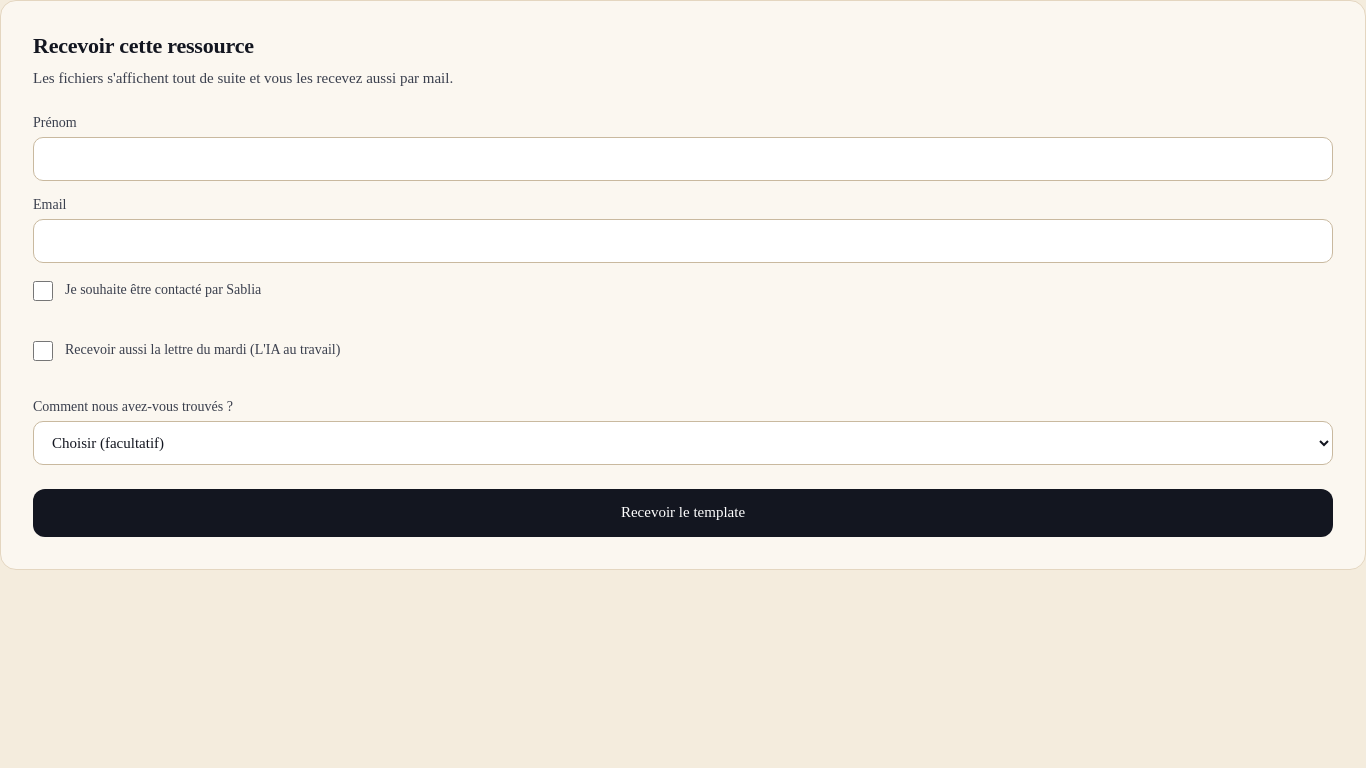
Test case: RessourceForm: the optional phone › confirms on screen that the contact request was heard
Type "Camille" into the field labelled "Prénom".
click(683, 159); type("Camille")  # box [33,137,1333,181]
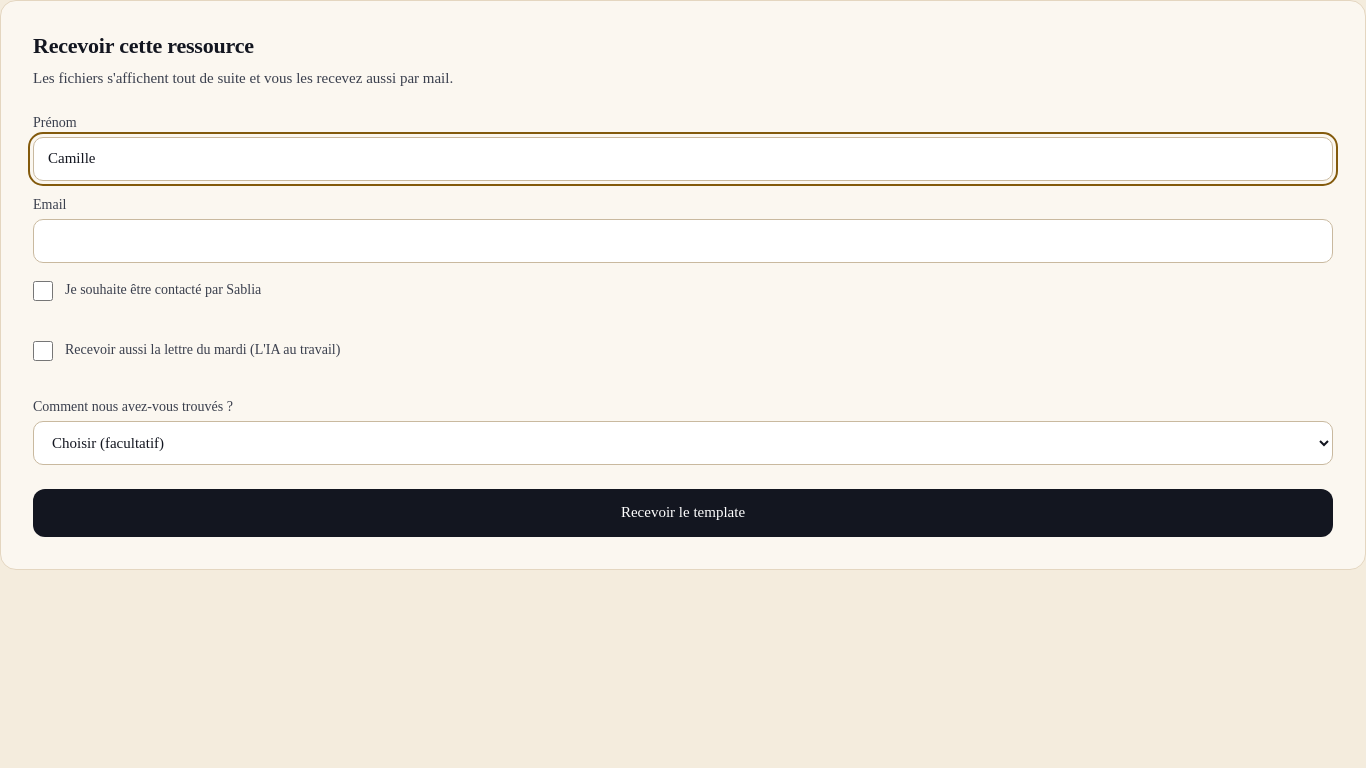
Type "camille@exemple.fr" into the field labelled "Email".
click(683, 241); type("camille@exemple.fr")  # box [33,219,1333,263]
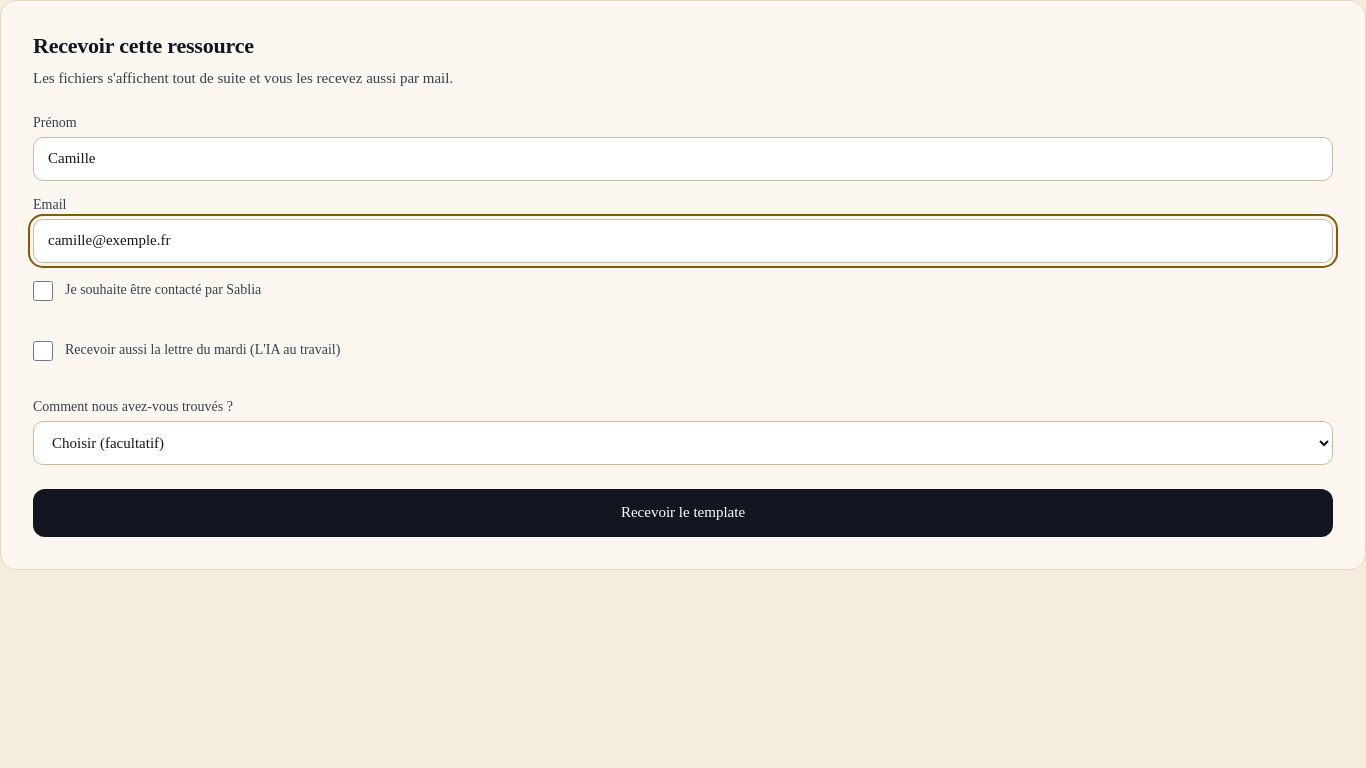
Click the checkbox labelled "Je souhaite être contacté par Sablia".
click(43, 291)  # box [33,281,53,301]
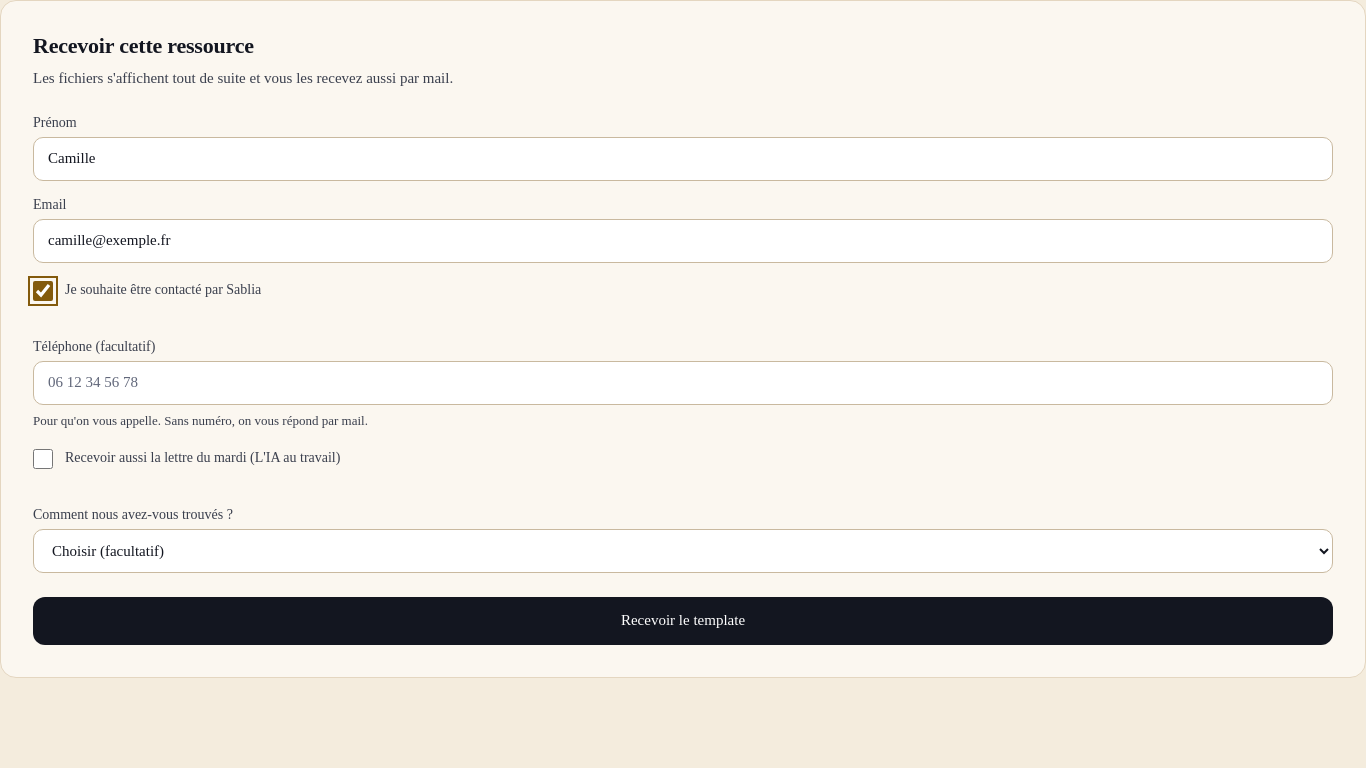
Click the button "Recevoir le template".
click(683, 621)  # box [33,597,1333,645]
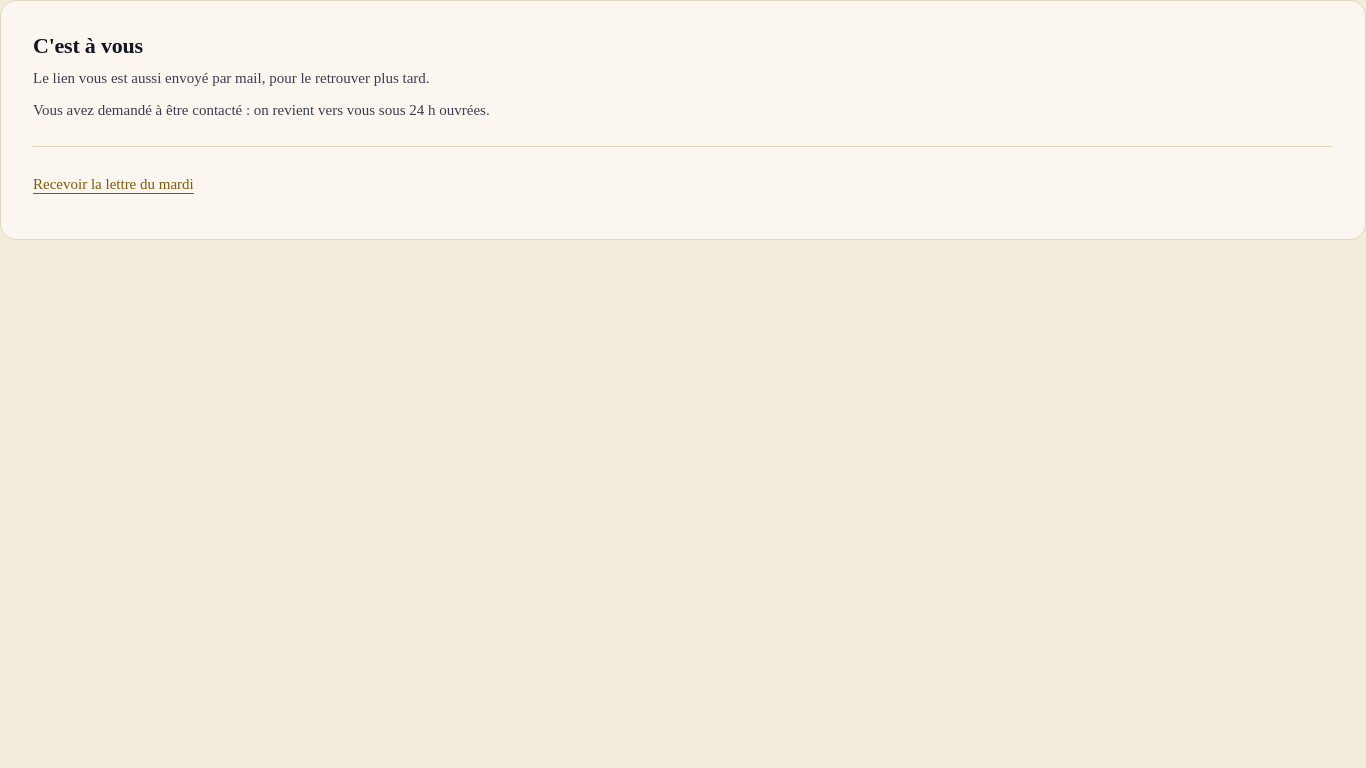
Expected: the text "on revient vers vous sous 24 h ouvrées" is shown, [33,102,490,118]
